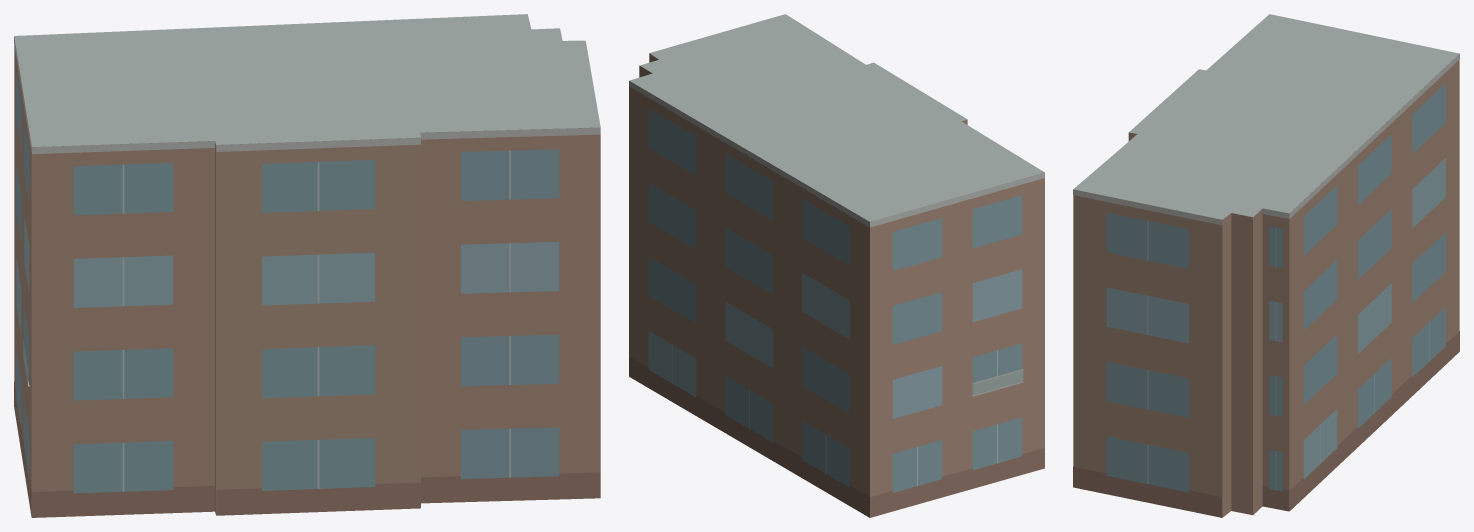
File: survey-upis-32668833.glb
The picture shows the model from 3 angles, left to right: view 1: azimuth 30°, elevation 25°; view 2: azimuth 150°, elevation 25°; view 3: azimuth 270°, elevation 25°; orthographic projection. The views are drawn at different scales.
Parts seen in each view (by area): view 1: survey-upis-32668833.tmp; view 2: survey-upis-32668833.tmp; view 3: survey-upis-32668833.tmp.
Part boxes in pixels (x1,y1,x2,y2): survey-upis-32668833.tmp: (14, 14, 600, 517); survey-upis-32668833.tmp: (629, 14, 1044, 517); survey-upis-32668833.tmp: (1073, 14, 1459, 517).
Bounding box in the file's own units: 18.97 × 12.8 × 15.06.
